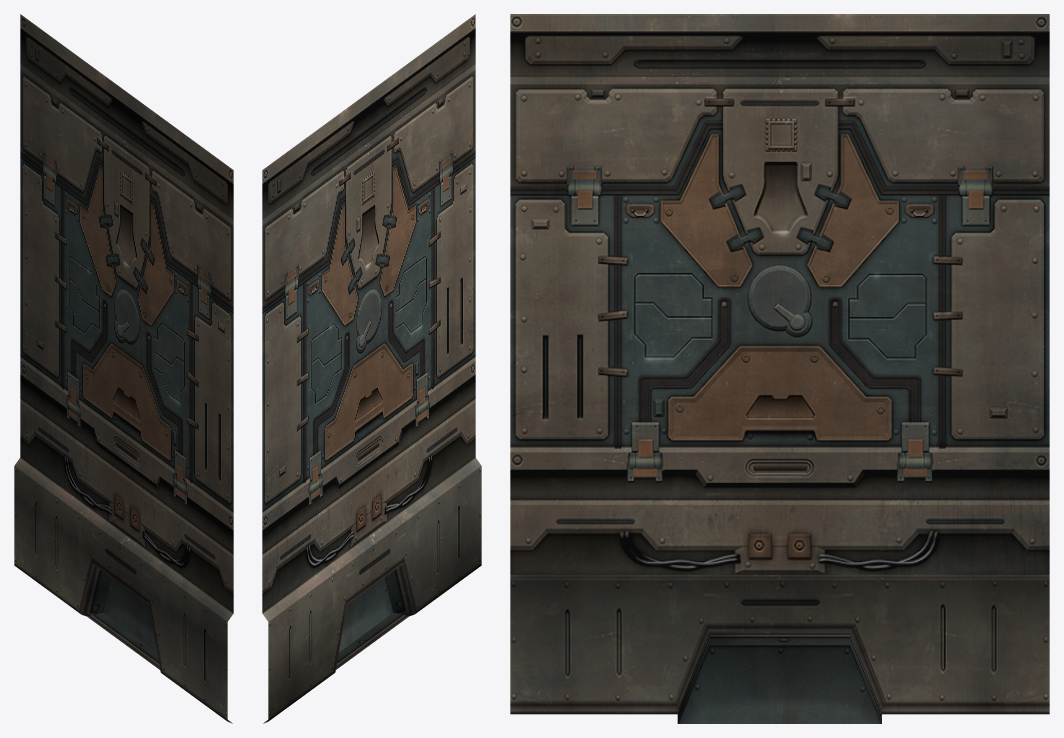
File: mprw_wall_tall_alt.FBX
3 renders of one model, left to right at view 1: azimuth 30°, elevation 25°; view 2: azimuth 150°, elevation 25°; view 3: azimuth 270°, elevation 25°, orthographic. The views are drawn at different scales.
Visible parts, largest first — view 1: mprw_wall_tall_alt; view 2: mprw_wall_tall_alt; view 3: mprw_wall_tall_alt.
Boxes of the visible parts, x1,y1,x2,y2 form: mprw_wall_tall_alt: (14,14,233,723); mprw_wall_tall_alt: (262,14,481,723); mprw_wall_tall_alt: (510,14,1049,723).
Bounding box in the file's own units: 41.03 × 1003 × 700.
1 material, 1 textured.
